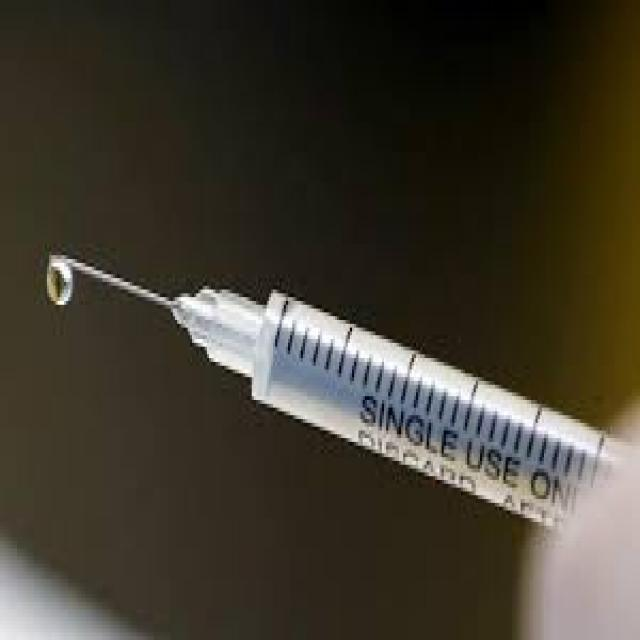syringe: (19, 190, 629, 551)
